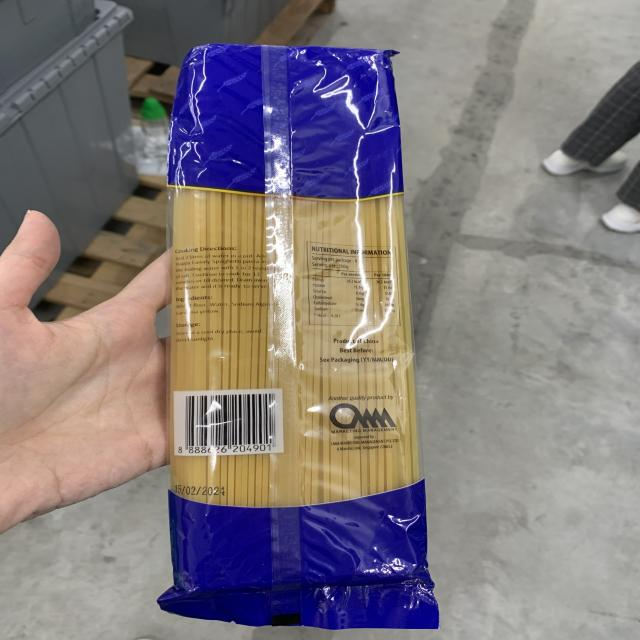object_name: (179, 50, 430, 610)
